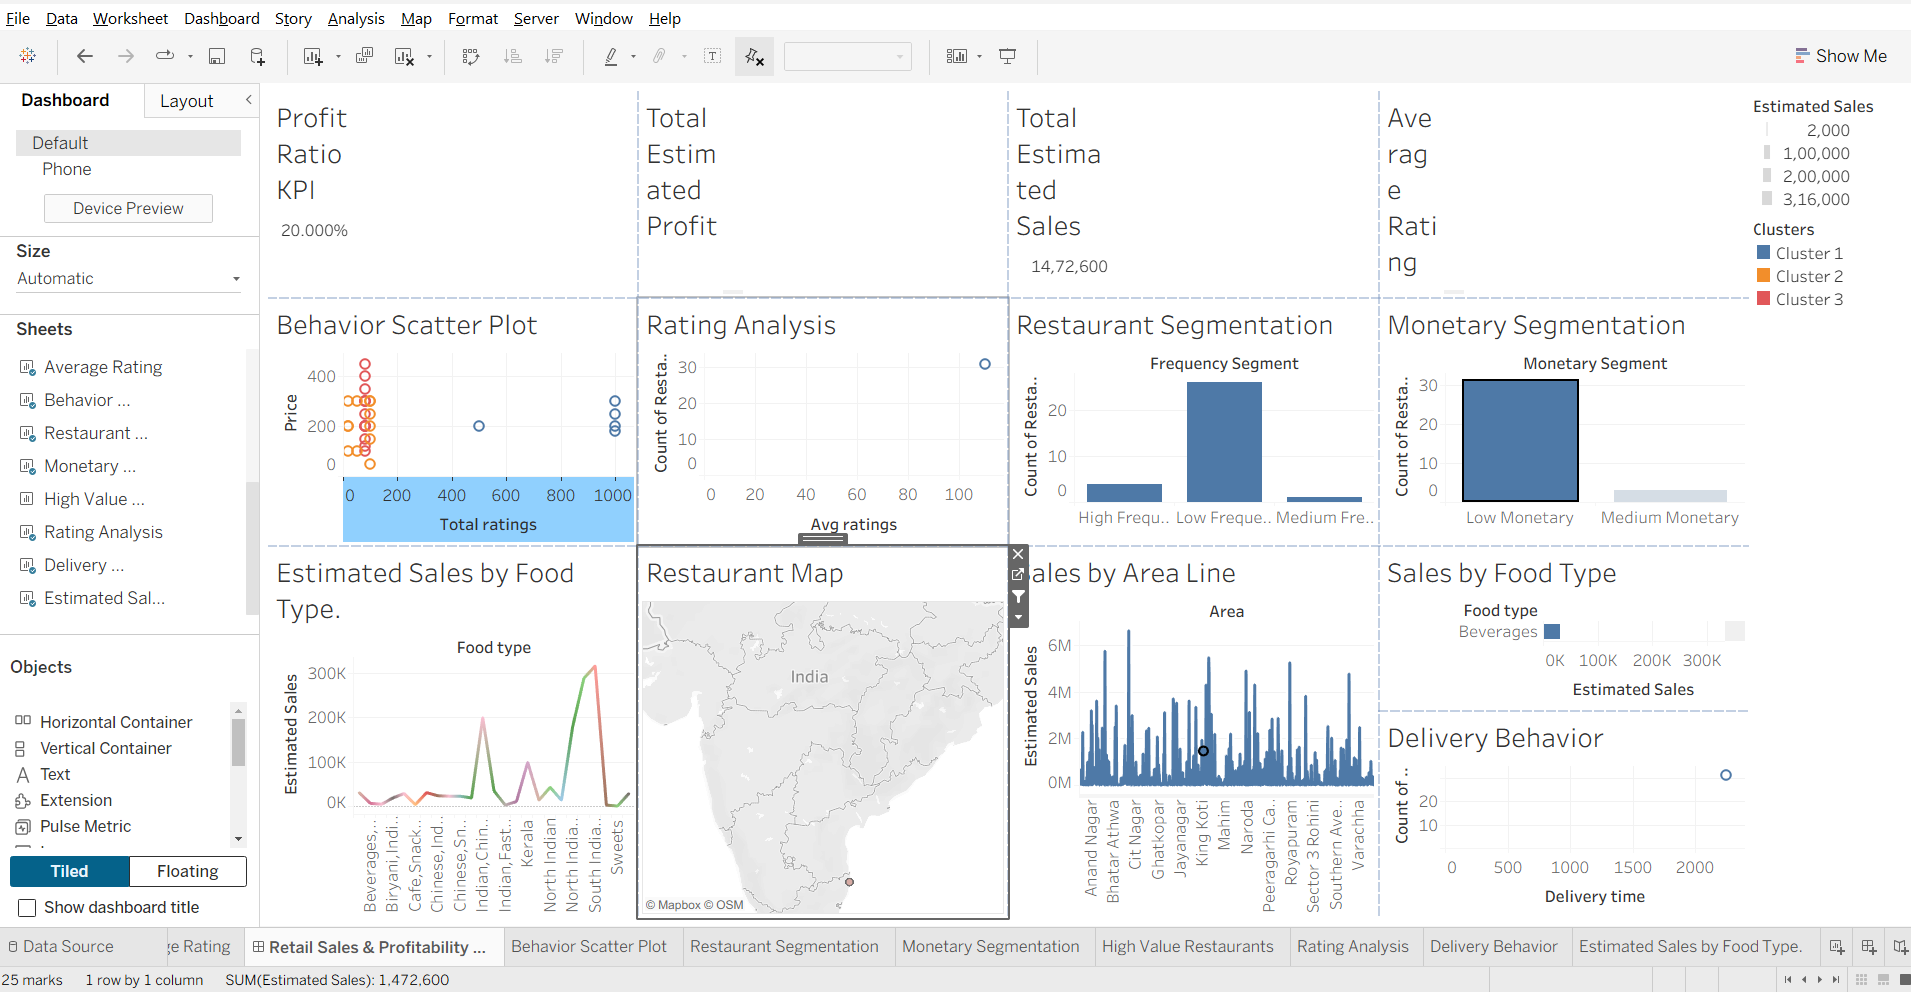

Layout of this report page (visuals, bound fields, positions):
{"tool":"tableau","page":{"name":"Retail Sales & Profitability Dashboard","canvas":[1000,1000],"units":"permille","ordinal":0},"visuals":[{"type":"worksheet","title":"Profit Ratio KPI","mark":"Automatic","box":[4.9,9.5,223.3,490.5]},{"type":"worksheet","title":"Total Estimated Profit","mark":"Automatic","box":[228.1,9.5,223.3,245.3]},{"type":"worksheet","title":"Total Estimated Sales","mark":"Automatic","box":[451.4,9.5,223.3,490.5]},{"type":"worksheet","title":"Average Rating","mark":"Automatic","box":[674.7,9.5,223.3,490.5]},{"type":"filter","title":"Sales by Area","param":"[federated.0vb6p7g00a2suz13pf34c0qbm5eo].[none:Area:nk]","box":[897.9,9.5,97.2,417.6]},{"type":"worksheet","title":"Restaurant Map","mark":"Multipolygon","box":[228.1,254.8,223.3,245.2]},{"type":"legend","title":"Sales by Area","param":"[federated.0vb6p7g00a2suz13pf34c0qbm5eo].[none:Food type:nk]","box":[897.9,427,97.2,417.6]},{"type":"worksheet","title":"Sales by Area","mark":"Bar","rows":["Area"],"cols":["Calculation_1150965339578368"],"box":[4.9,500,223.3,490.5]},{"type":"worksheet","title":"Profit by Area","mark":"Automatic","rows":["Area"],"cols":["Calculation_1150965339713537"],"box":[228.1,500,223.3,490.5]},{"type":"worksheet","title":"Sales by Area Line","mark":"Line","rows":["Calculation_1150965339578368"],"cols":["Area"],"box":[451.4,500,223.3,490.5]},{"type":"worksheet","title":"Sales by Food Type","mark":"Bar","rows":["Food type"],"cols":["Calculation_1150965339578368"],"box":[674.7,500,223.3,490.5]},{"type":"legend","title":"Restaurant Map","param":"[federated.0vb6p7g00a2suz13pf34c0qbm5eo].[sum:Calculation_1150965339578368:qk]","box":[897.9,844.6,97.2,145.9]}]}

Visuals, with their boxes on the dashboard's canvas, which has no fixed pixel size, in thousandths of its width and height (x1, y1, x2, y2). These are canvas units, not pixel positions in the 1911x992 screenshot, which may show the page scaled, cropped or inside an application window:
"Profit Ratio KPI" worksheet: select_region(5, 10, 228, 500)
"Total Estimated Profit" worksheet: select_region(228, 10, 451, 255)
"Total Estimated Sales" worksheet: select_region(451, 10, 675, 500)
"Average Rating" worksheet: select_region(675, 10, 898, 500)
"Sales by Area" filter: select_region(898, 10, 995, 427)
"Restaurant Map" worksheet (Multipolygon marks): select_region(228, 255, 451, 500)
"Sales by Area" legend: select_region(898, 427, 995, 845)
"Sales by Area" worksheet (Bar marks): select_region(5, 500, 228, 990)
"Profit by Area" worksheet: select_region(228, 500, 451, 990)
"Sales by Area Line" worksheet (Line marks): select_region(451, 500, 675, 990)
"Sales by Food Type" worksheet (Bar marks): select_region(675, 500, 898, 990)
"Restaurant Map" legend: select_region(898, 845, 995, 990)
